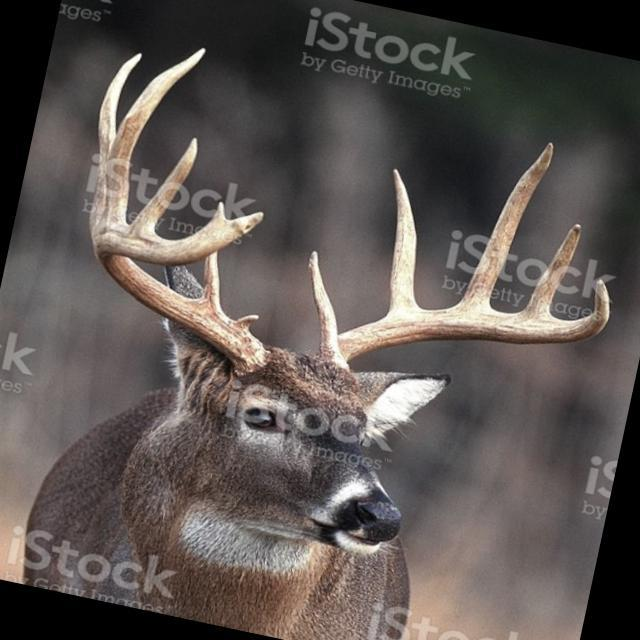E1: (236, 313, 259, 330)
E2: (210, 202, 226, 223)
L-F: (322, 278, 610, 370)
L-G1: (306, 250, 337, 357)
L-G2: (388, 167, 419, 313)
L-G3: (461, 141, 554, 307)
L-G4: (523, 223, 581, 315)
R-F: (92, 212, 271, 375)
R-G1: (198, 253, 220, 305)
R-G3: (98, 47, 206, 227)
R-G4: (129, 137, 198, 235)
